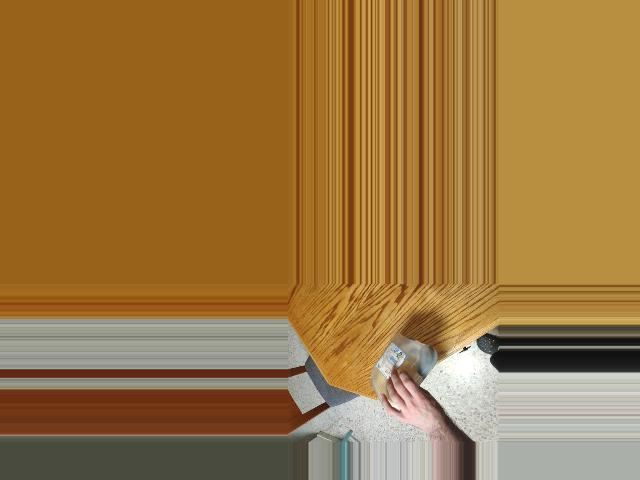cheese: (368, 336, 433, 415)
